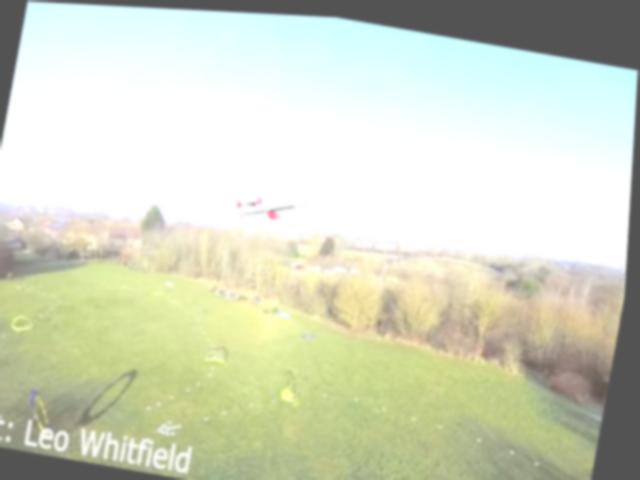uav: (224, 179, 316, 236)
